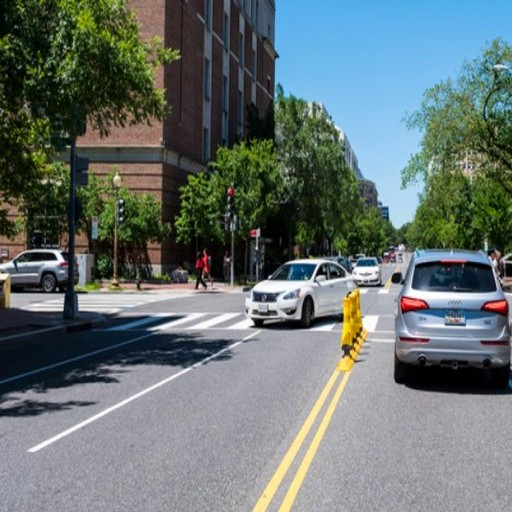car: (390, 245, 512, 392), (242, 254, 361, 327), (1, 246, 79, 296), (348, 255, 385, 288)
